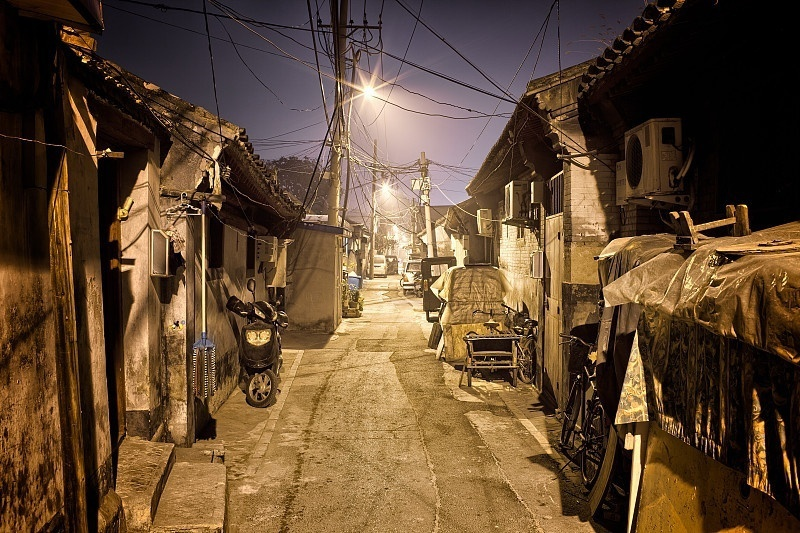non-vehicle: (225, 289, 288, 403), (558, 326, 601, 472)
